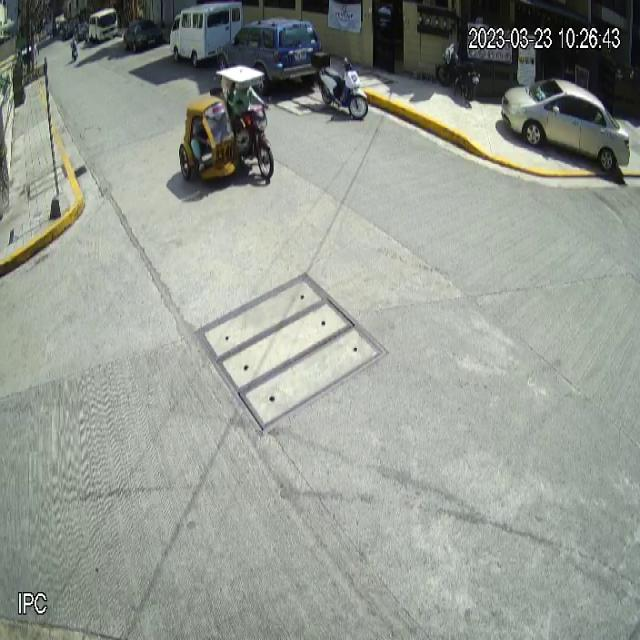Car: (501, 76, 630, 173)
Motorcycle: (316, 56, 368, 121)
Tricycle: (178, 64, 278, 185)
Van: (169, 0, 243, 67)
